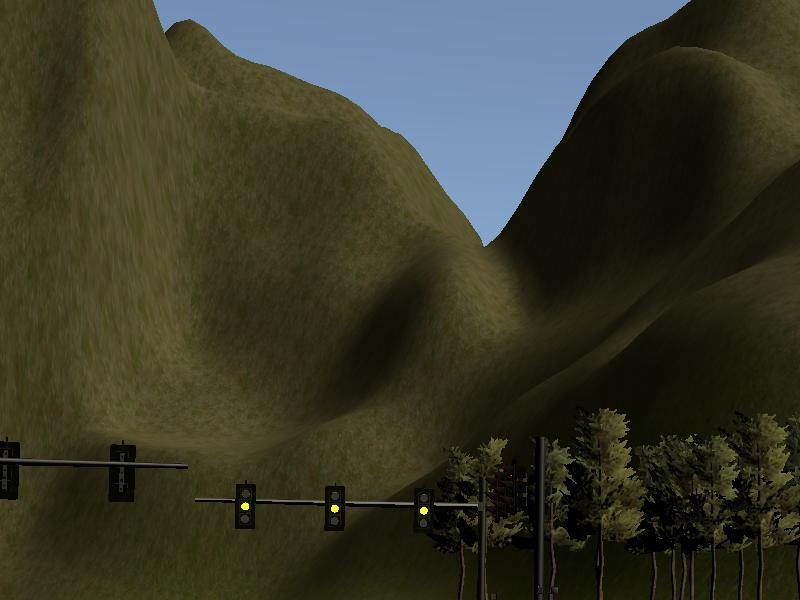yellow: (413, 487, 436, 533), (323, 485, 347, 529), (234, 484, 255, 529)
